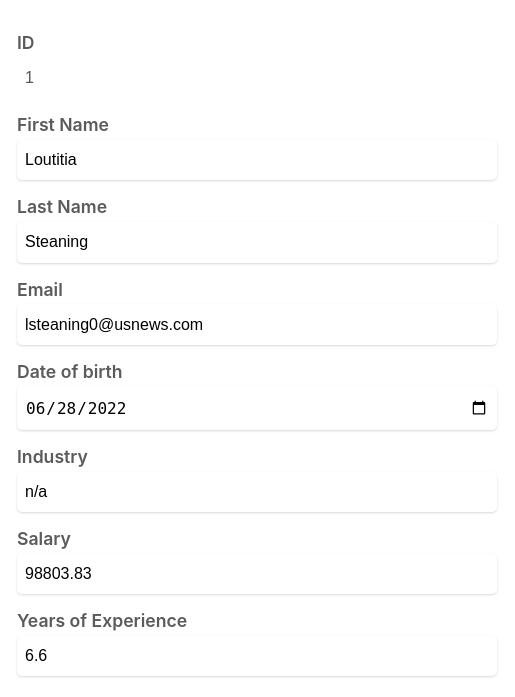
Scenario: EmployeeForm › should display matching error when years of experience exceeds 100
The width and height of the screenshot is (515, 697).
Replace the text in the number field below "Years of Experience" with "101" at point(257, 656), box [17,636,497,676]
(page scrolled)
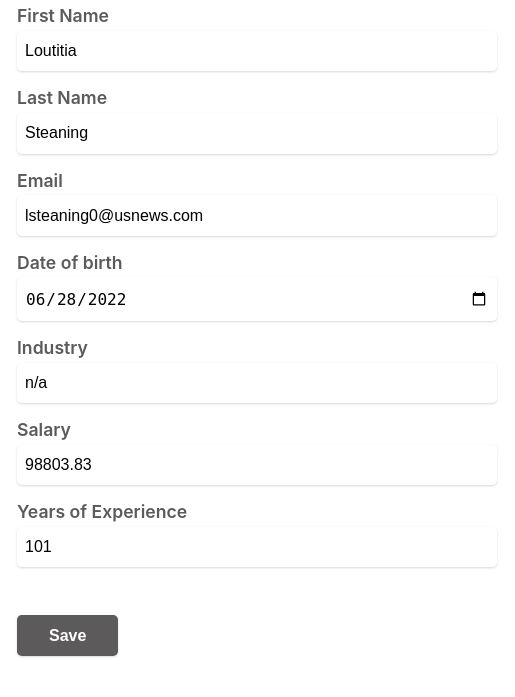
Submit the form from the button, box [17,615,118,656]
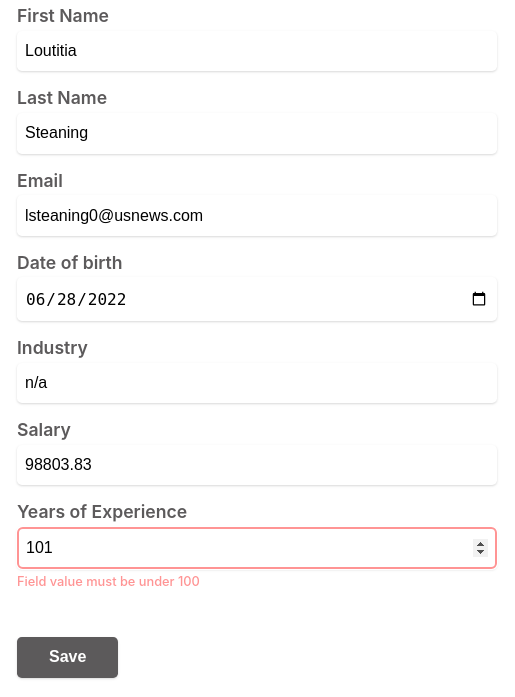
Expected: the text "Field value must be under 100" is shown, [17,574,200,589]
